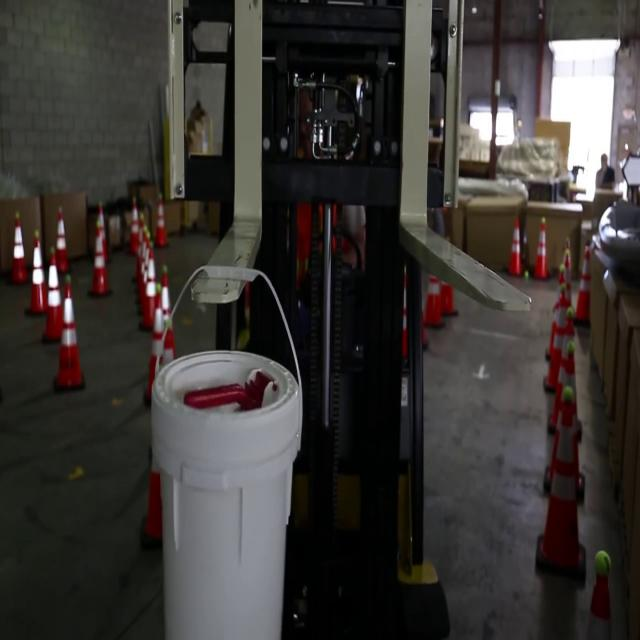Chariot elevateur: (149, 10, 523, 640)
